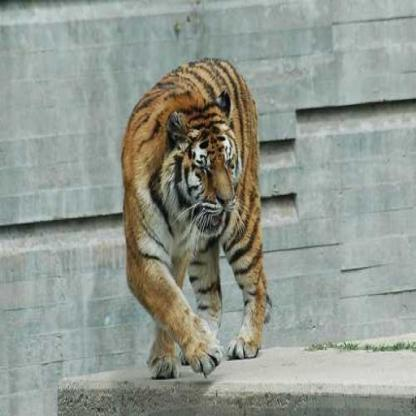Tiger: (112, 51, 280, 382)
